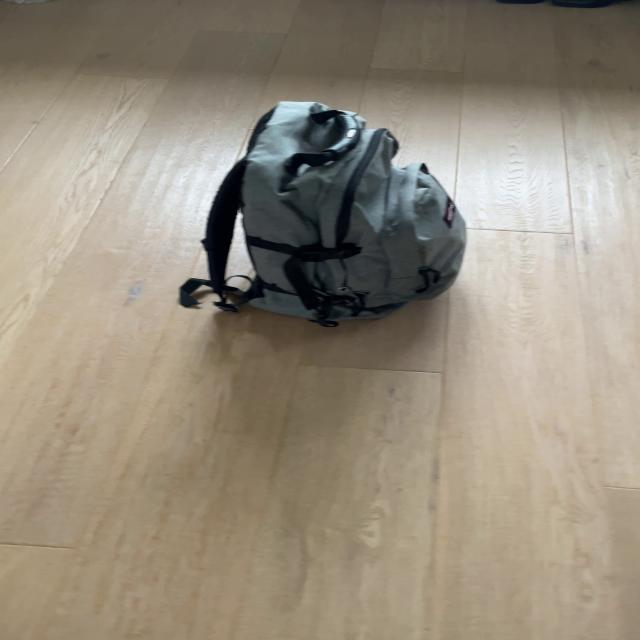backpack: (200, 93, 478, 332)
